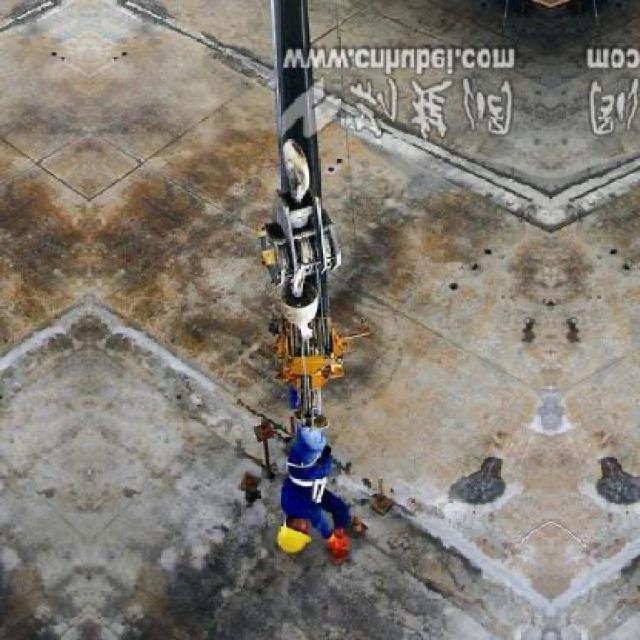con casco: (262, 516, 327, 566)
